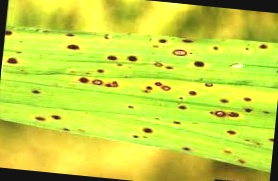Bacterial_Leaf_Blight: (217, 147, 251, 165), (62, 42, 85, 52), (172, 44, 188, 58), (33, 113, 50, 126), (176, 101, 193, 114), (242, 137, 263, 147), (102, 78, 119, 90), (254, 42, 273, 52), (213, 96, 233, 105), (156, 60, 175, 69), (211, 43, 224, 56), (125, 53, 138, 65), (213, 107, 226, 119), (195, 54, 206, 68), (138, 124, 155, 133), (172, 119, 189, 128), (5, 56, 21, 65), (6, 28, 18, 40), (142, 82, 154, 94), (187, 88, 201, 98), (242, 106, 256, 116), (78, 75, 90, 86), (160, 82, 172, 93), (49, 114, 64, 122), (106, 52, 119, 61), (181, 36, 194, 45), (153, 77, 164, 87), (241, 92, 251, 103), (28, 89, 46, 95), (102, 33, 114, 42), (93, 79, 106, 87), (124, 103, 136, 111), (259, 108, 271, 116), (128, 133, 140, 141), (224, 128, 238, 134), (61, 126, 73, 133), (181, 146, 192, 151), (160, 38, 166, 43), (66, 34, 75, 36)
